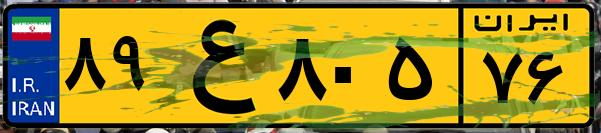0: (330, 28, 385, 110)
5: (385, 28, 445, 110)
6: (525, 38, 570, 115)
7: (475, 38, 525, 113)
8: (270, 28, 330, 110), (57, 26, 110, 100)
9: (110, 28, 158, 98)
ع: (158, 12, 270, 120)
